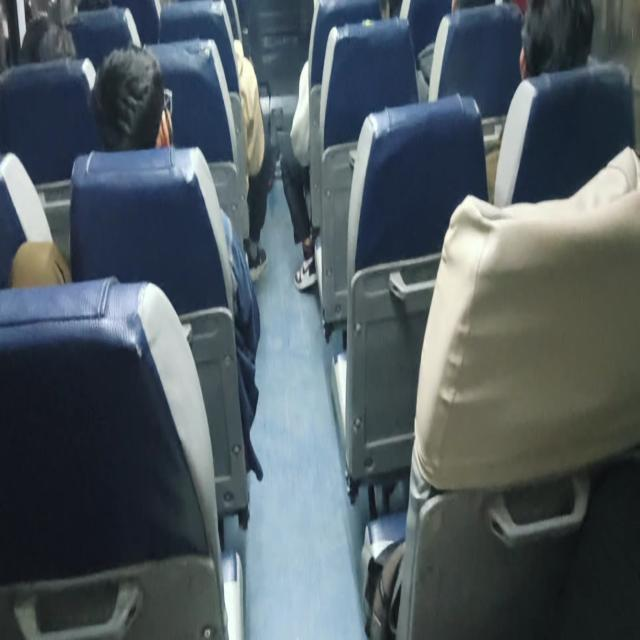person: (102, 55, 178, 152), (512, 0, 594, 73), (15, 20, 81, 89)
